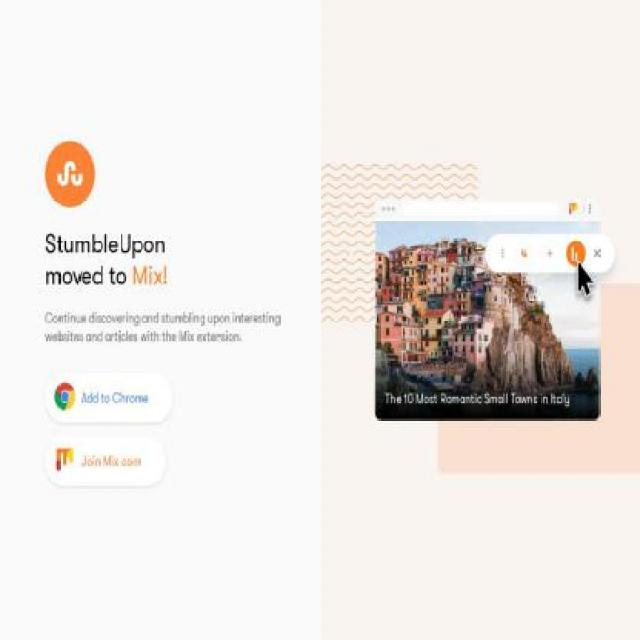button: (44, 372, 174, 423), (45, 436, 166, 487)
